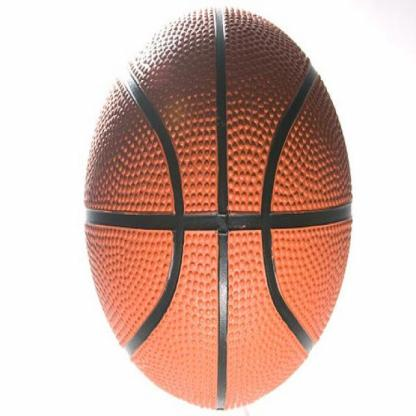basketball: (84, 8, 355, 412)
